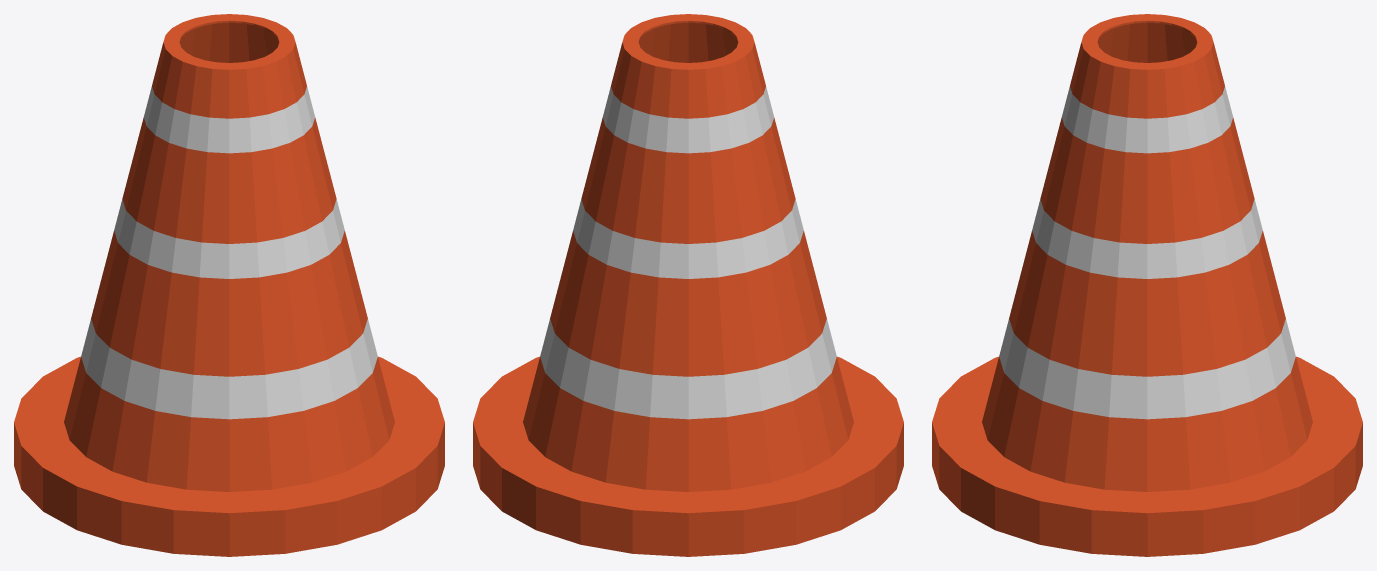
Rendered from TrafficCone.fbx.
3 views of the same model, side by side, from view 1: azimuth 30°, elevation 25°; view 2: azimuth 150°, elevation 25°; view 3: azimuth 270°, elevation 25° (orthographic).
Parts seen in each view (by area): view 1: Circle; view 2: Circle; view 3: Circle.
Boxes of the visible parts, x1,y1,x2,y2 form: Circle: [14, 14, 444, 556]; Circle: [473, 14, 903, 556]; Circle: [932, 14, 1362, 556].
Size of the model in its own units: 345 by 374 by 345.
